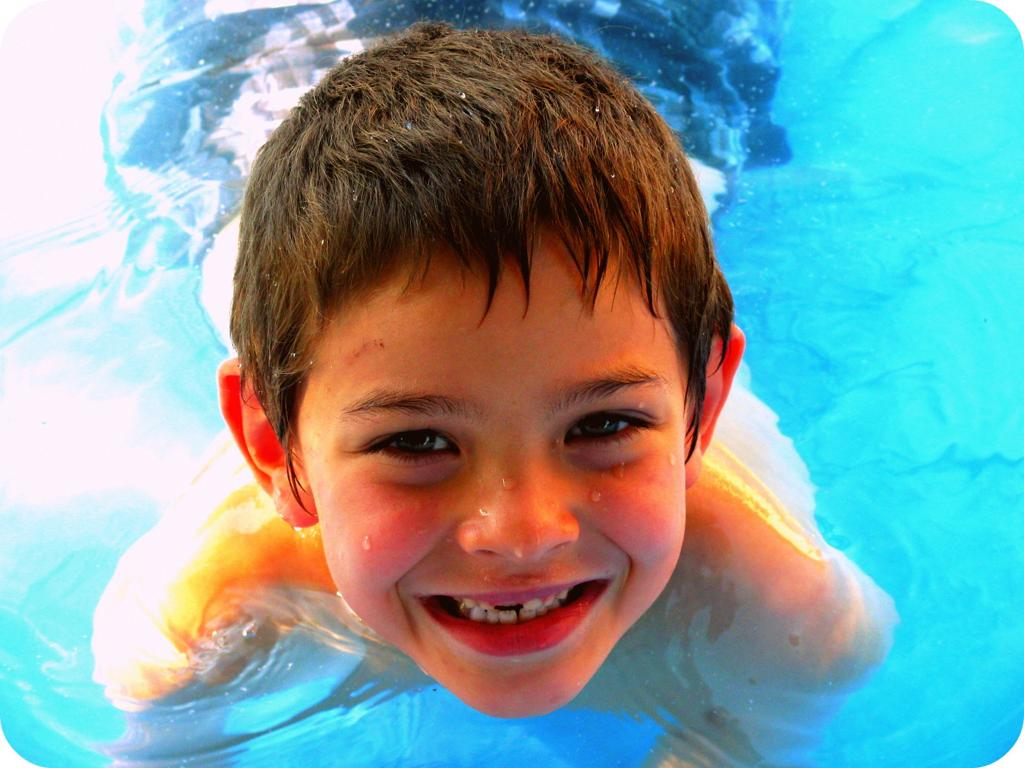face: (302, 306, 684, 706)
